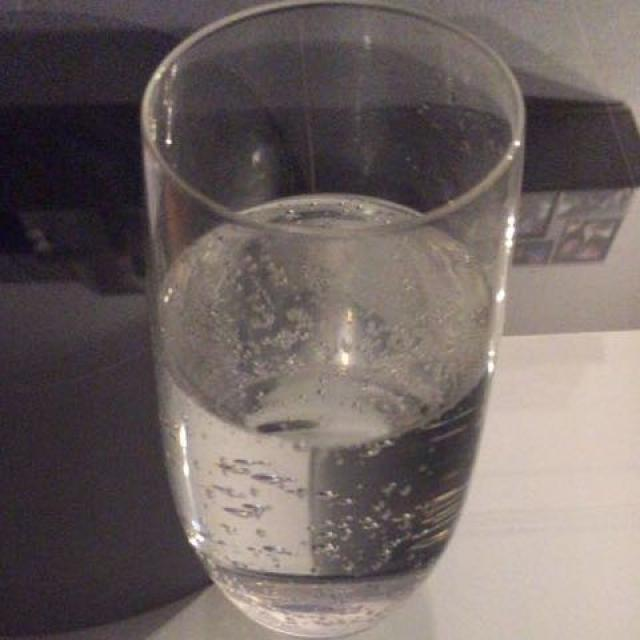water: (157, 198, 494, 626)
